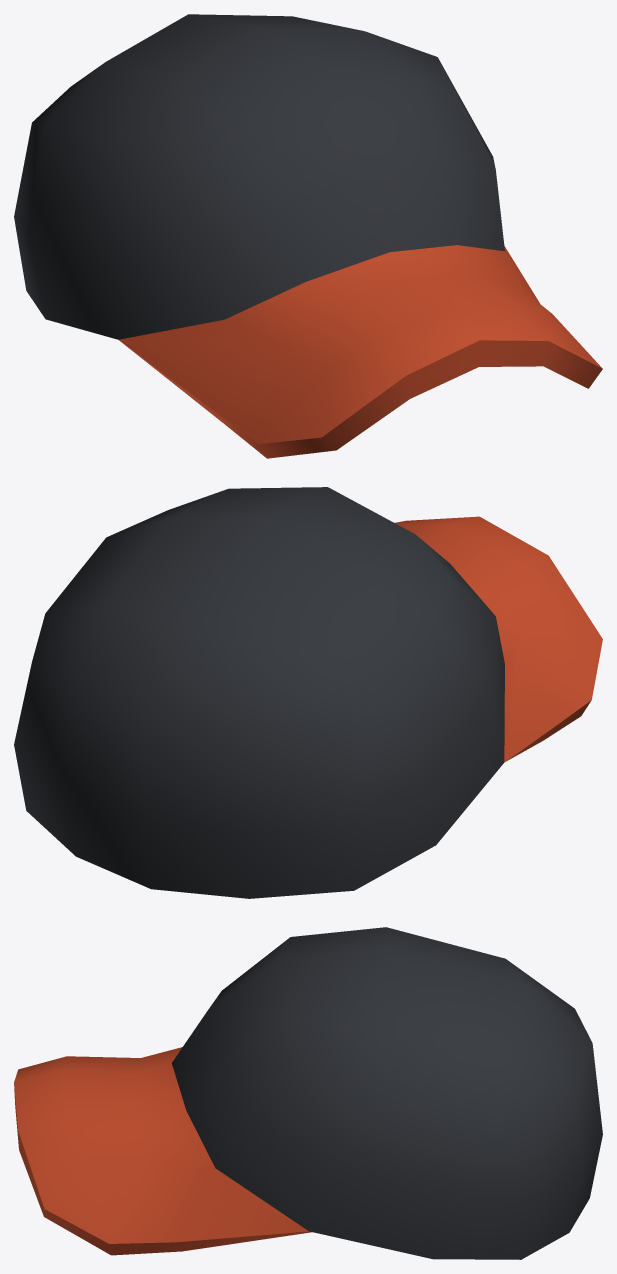
The model's file is Female_Hat_02_v2.fbx.
The picture shows the model from 3 angles, top to bottom: view 1: azimuth 30°, elevation 25°; view 2: azimuth 150°, elevation 25°; view 3: azimuth 270°, elevation 25°; orthographic projection. The views are drawn at different scales.
Visible parts, largest first — view 1: Female_Hat_02_v2; view 2: Female_Hat_02_v2; view 3: Female_Hat_02_v2.
Part boxes in pixels (x1,y1,x2,y2): Female_Hat_02_v2: [14, 14, 602, 458]; Female_Hat_02_v2: [14, 487, 602, 898]; Female_Hat_02_v2: [14, 927, 602, 1259].
Size of the model in its own units: 57.4 by 39.37 by 83.67.
